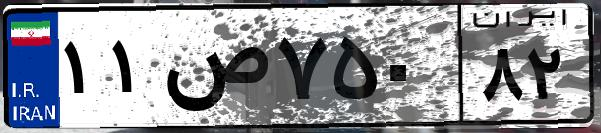0: (385, 28, 445, 110)
1: (57, 26, 110, 100), (110, 28, 158, 98)
2: (525, 38, 570, 115)
5: (330, 28, 385, 110)
7: (270, 28, 330, 110)
8: (475, 38, 525, 113)
ص: (158, 20, 270, 120)
